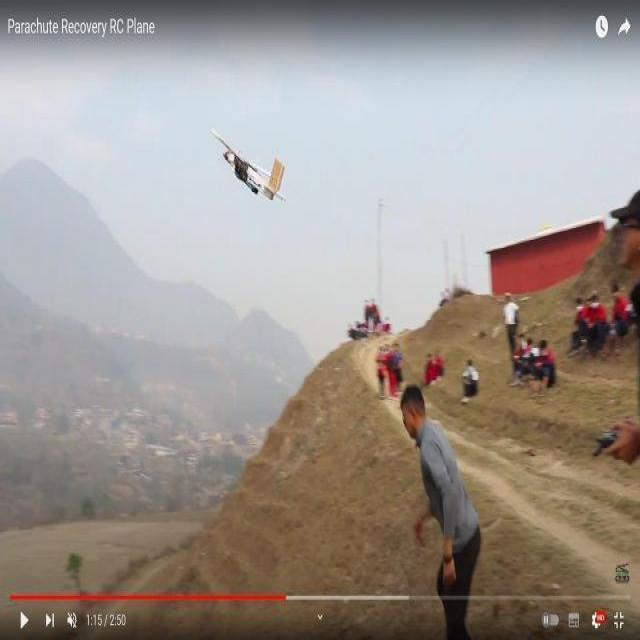iha: (245, 163, 275, 184)
